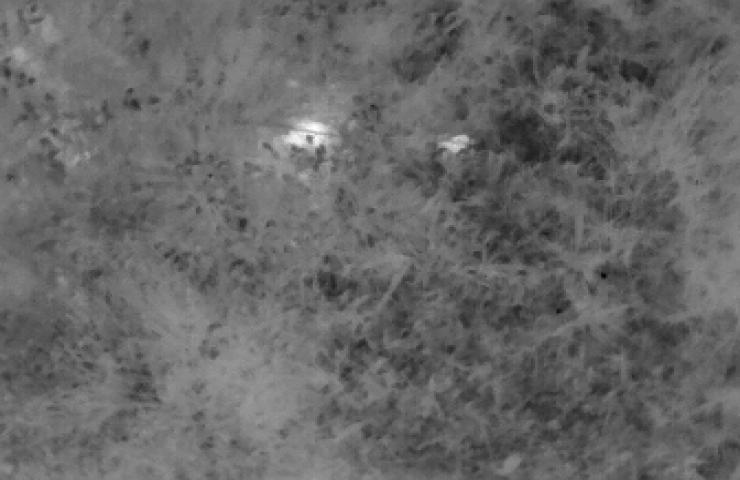landmines: (281, 115, 353, 163)
